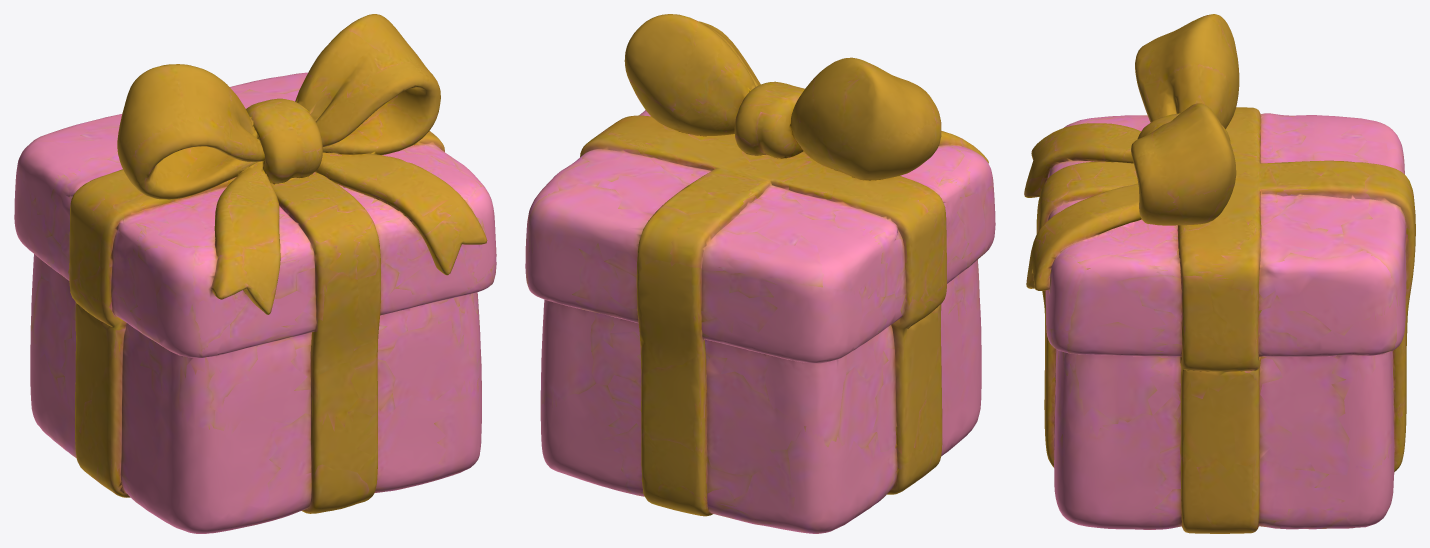
3 views of the same model, side by side, from view 1: azimuth 30°, elevation 25°; view 2: azimuth 150°, elevation 25°; view 3: azimuth 270°, elevation 25° (orthographic). The views are drawn at different scales.
Size of the model in its own units: 1.65 by 1.9 by 1.66.
Materials: 1 (1 with a texture image).
